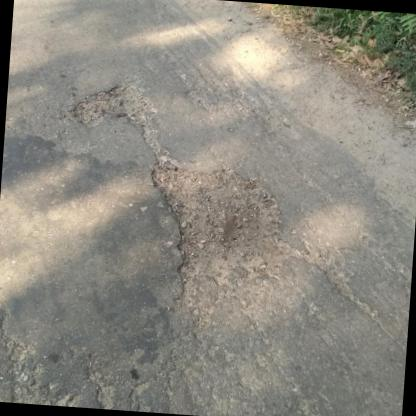pothole: (140, 155, 294, 294), (68, 75, 154, 130)
